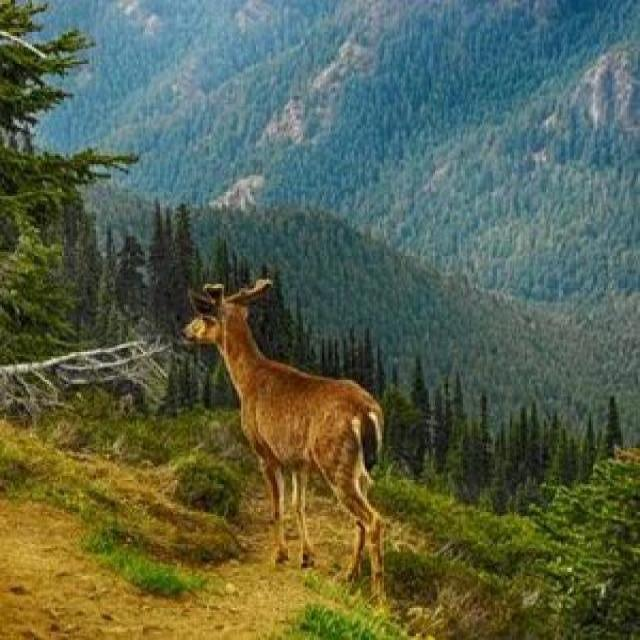deer: (176, 255, 438, 590)
